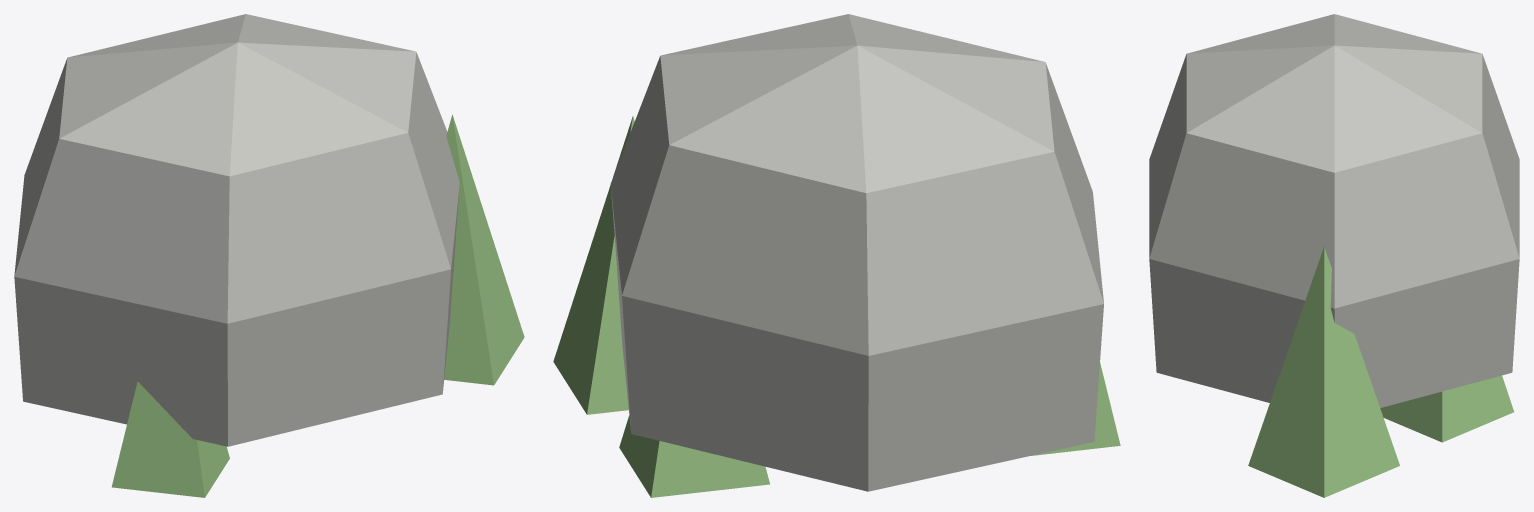
File: boulder-small.glb
3 views of the same model, side by side, from view 1: azimuth 30°, elevation 25°; view 2: azimuth 150°, elevation 25°; view 3: azimuth 270°, elevation 25° (orthographic). The views are drawn at different scales.
Parts seen in each view (by area): view 1: boulder-small; view 2: boulder-small; view 3: boulder-small.
Boxes of the visible parts, x1,y1,x2,y2 form: boulder-small: (14, 14, 524, 497); boulder-small: (553, 14, 1120, 497); boulder-small: (1149, 14, 1519, 497).
Bounding box in the file's own units: 1.03 × 0.7 × 0.7176.
